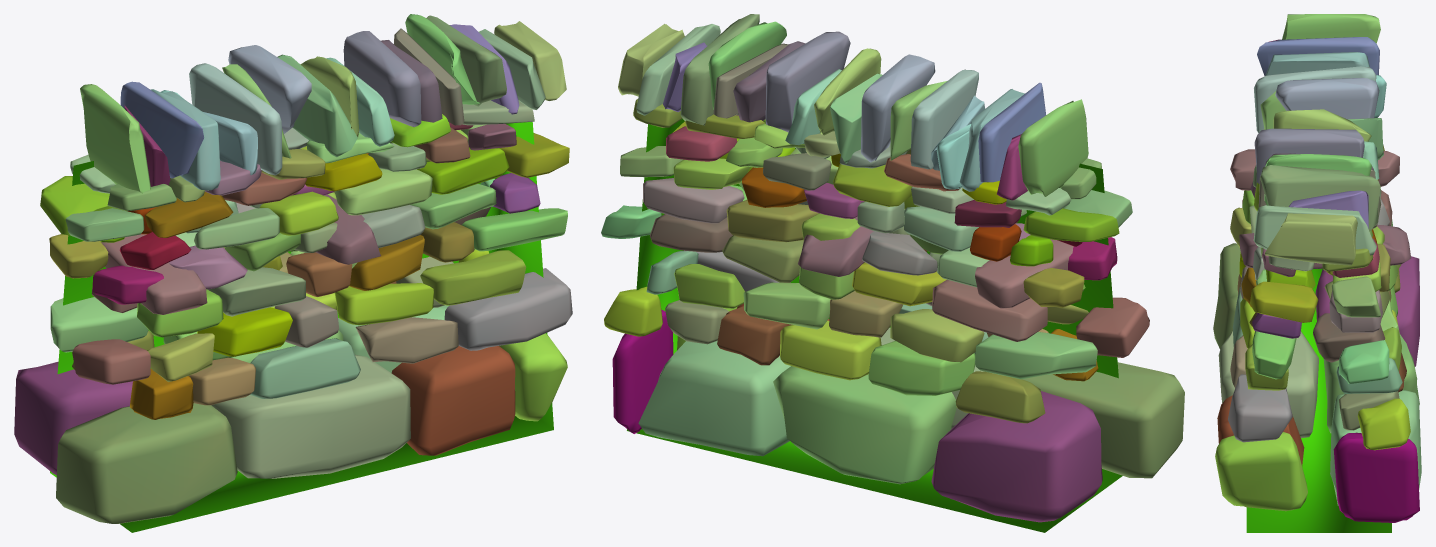
Rendered from SM_Wall_A.glb.
3 views of the same model, side by side, from view 1: azimuth 30°, elevation 25°; view 2: azimuth 150°, elevation 25°; view 3: azimuth 270°, elevation 25° (orthographic). The views are drawn at different scales.
Visible parts, largest first — view 1: SM_Wall_A; view 2: SM_Wall_A; view 3: SM_Wall_A.
Part boxes in pixels (x1,y1,x2,y2): SM_Wall_A: (14,14,572,532); SM_Wall_A: (601,14,1184,532); SM_Wall_A: (1213,14,1421,532).
Bounding box in the file's own units: 2.35 × 1.75 × 0.9457.
